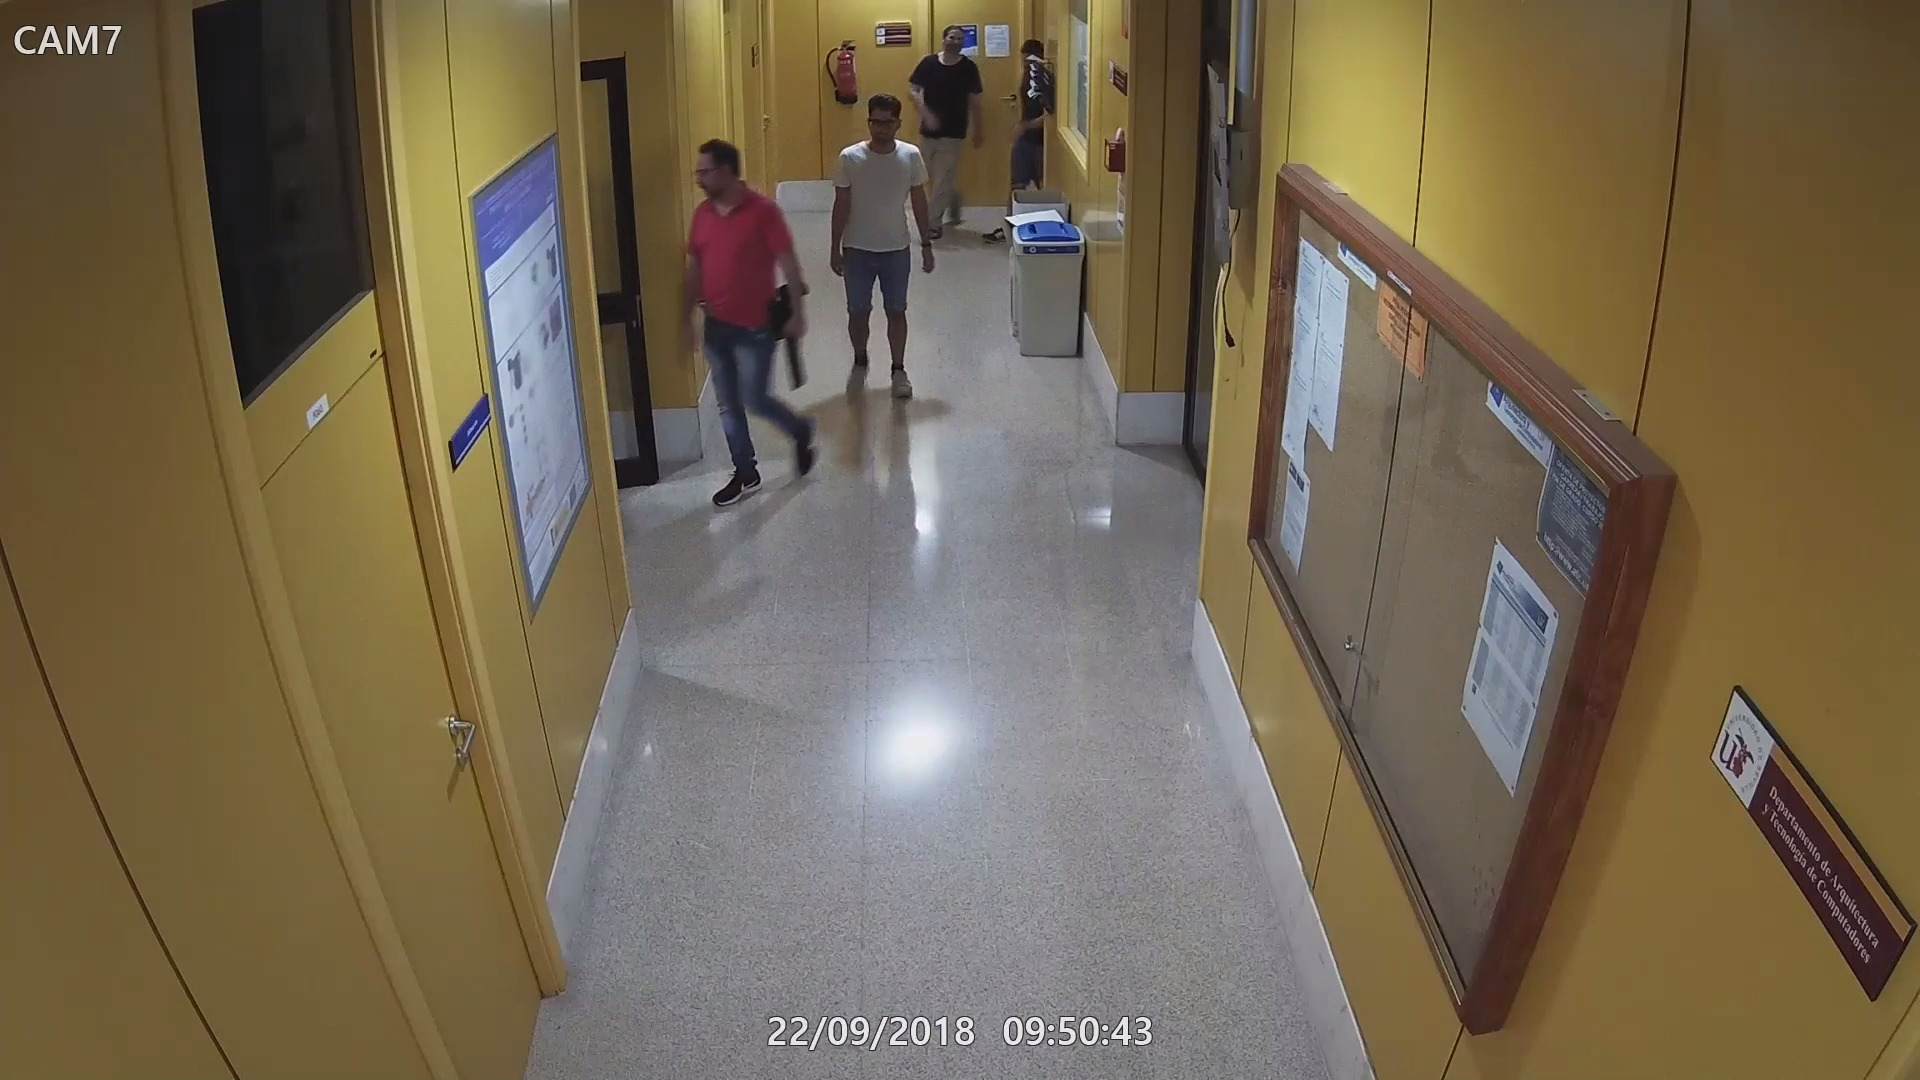Short_rifle: (766, 272, 812, 386)
